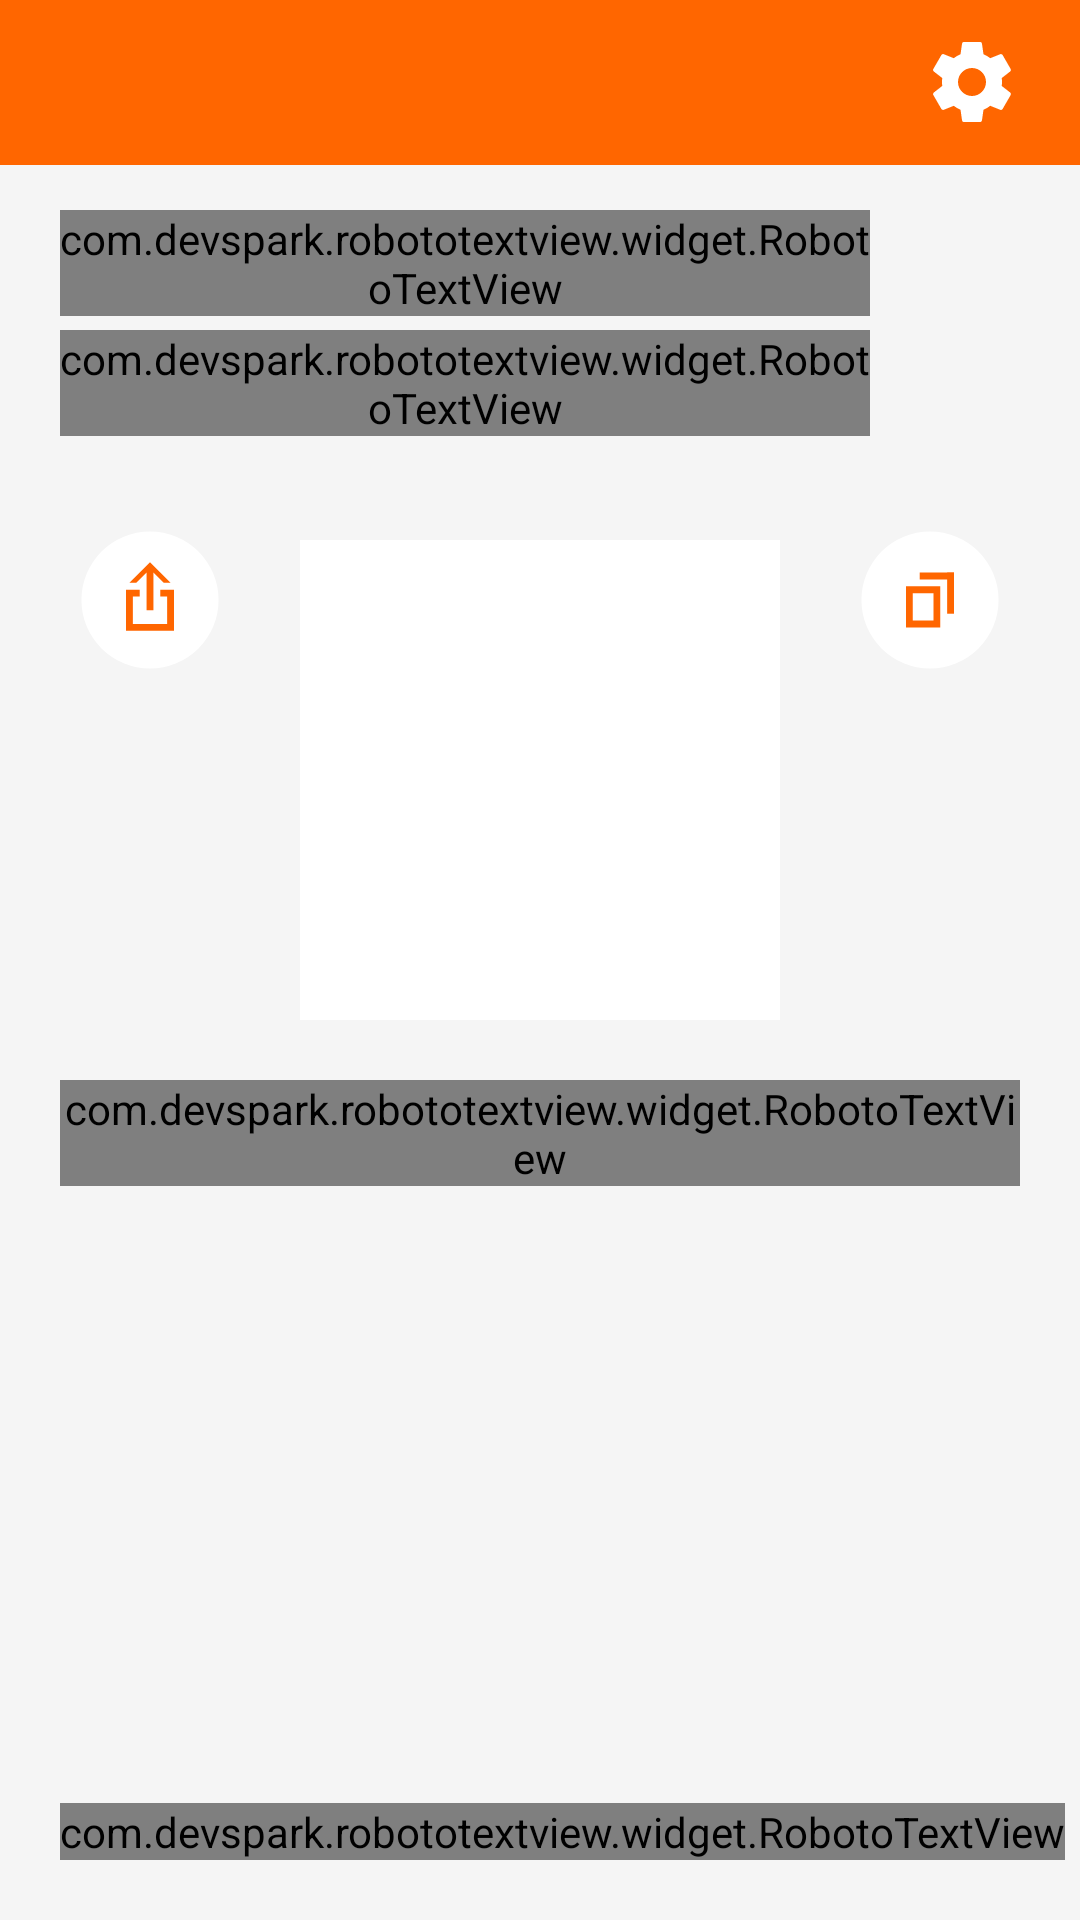

Where icons sit on this 1080x1920 app screen, as (x1, y1, x2, y2):
settings: (933, 42, 1011, 122)
share: (82, 532, 218, 668)
